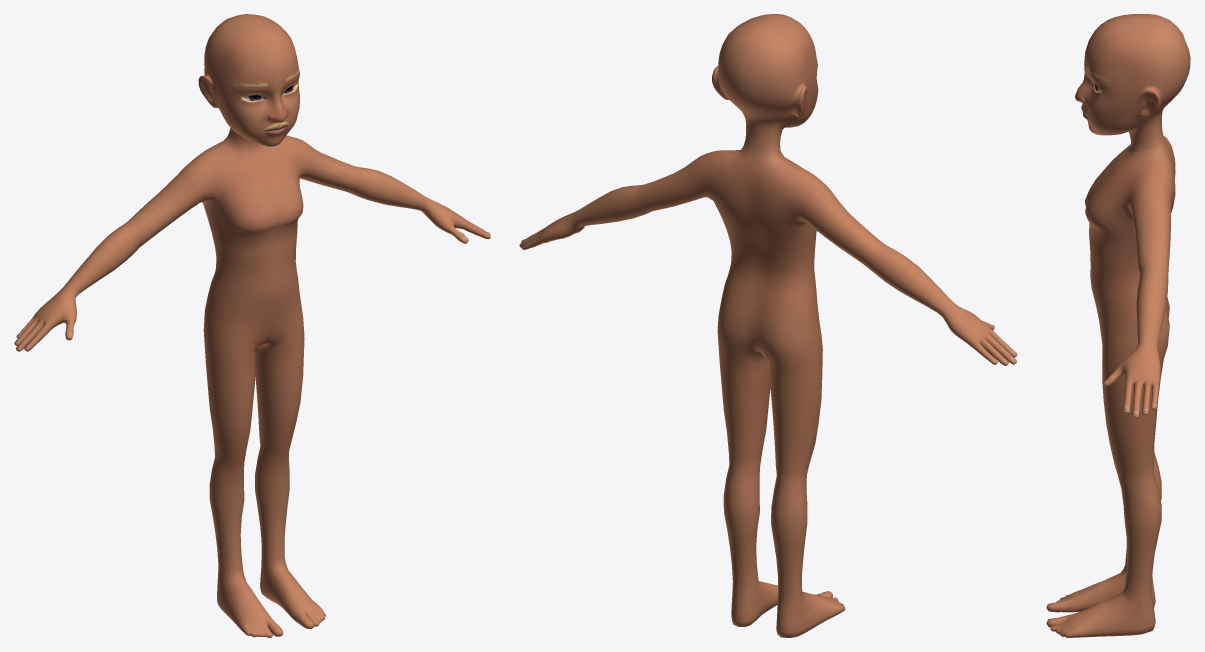
The model's file is frame_0024.glb.
The picture shows the model from 3 angles, left to right: view 1: azimuth 30°, elevation 25°; view 2: azimuth 150°, elevation 25°; view 3: azimuth 270°, elevation 25°; orthographic projection. The views are drawn at different scales.
Visible parts, largest first — view 1: frame_0024_head_geo; view 2: frame_0024_head_geo; view 3: frame_0024_head_geo.
Boxes of the visible parts, x1=… form: frame_0024_head_geo: x1=14, y1=14, x2=490, y2=637; frame_0024_head_geo: x1=519, y1=14, x2=1017, y2=637; frame_0024_head_geo: x1=1046, y1=14, x2=1190, y2=637.
Size of the model in its own units: 1.28 by 1.5 by 0.3253.
Materials: 3 (3 with a texture image).
